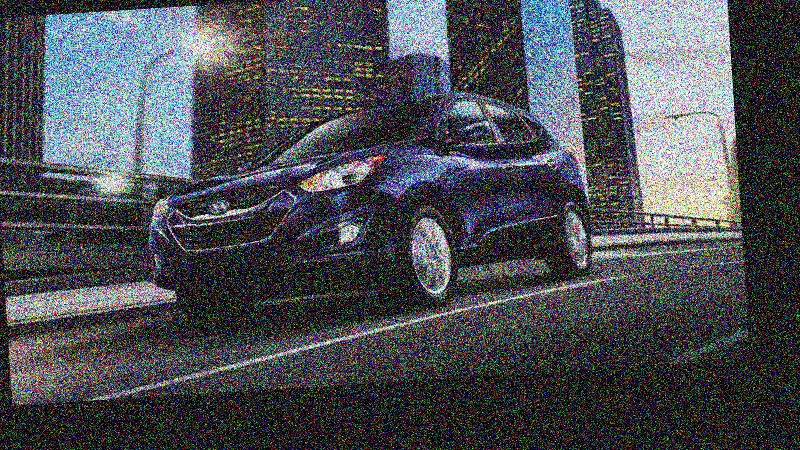car: (78, 75, 613, 338)
